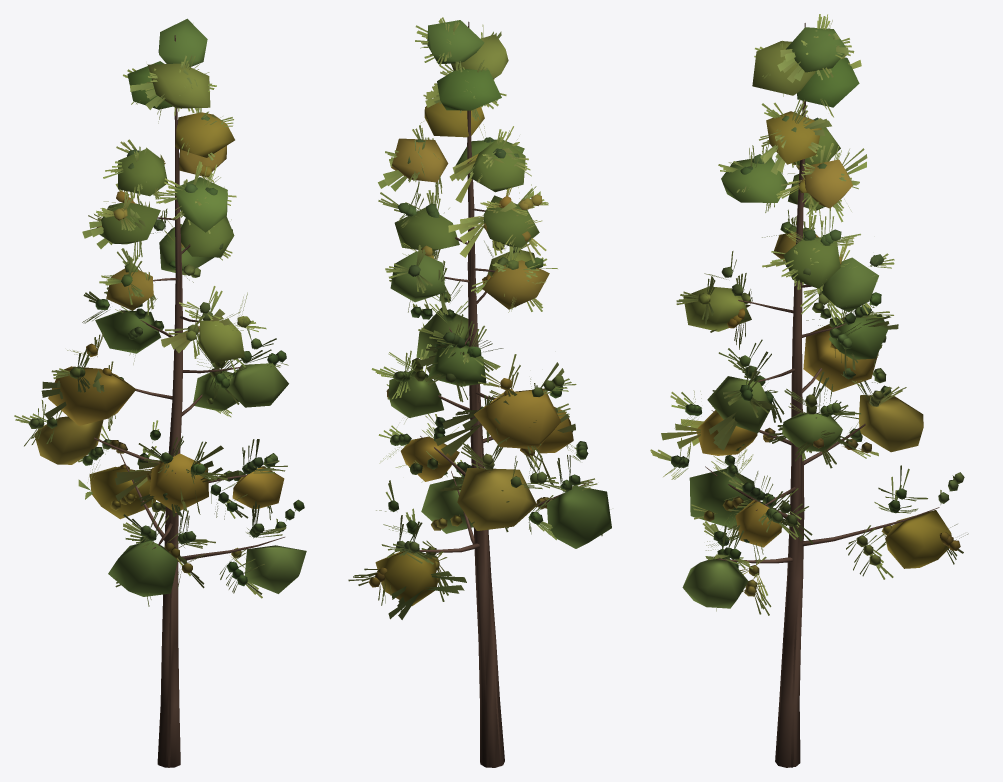
File: tamarack.glb
3 renders of one model, left to right at view 1: azimuth 30°, elevation 25°; view 2: azimuth 150°, elevation 25°; view 3: azimuth 270°, elevation 25°, orthographic. The views are drawn at different scales.
Parts seen in each view (by area): view 1: tamarack-lo, tamarack; view 2: tamarack-lo, tamarack; view 3: tamarack-lo, tamarack.
Part boxes in pixels (<box>): tamarack-lo: <box>34,18,306,767</box>; tamarack: <box>14,35,304,767</box>; tamarack-lo: <box>375,20,611,767</box>; tamarack: <box>348,17,602,767</box>; tamarack-lo: <box>661,27,951,767</box>; tamarack: <box>650,14,968,767</box>.
Size of the model in its own units: 4.65 by 14.22 by 5.75.
